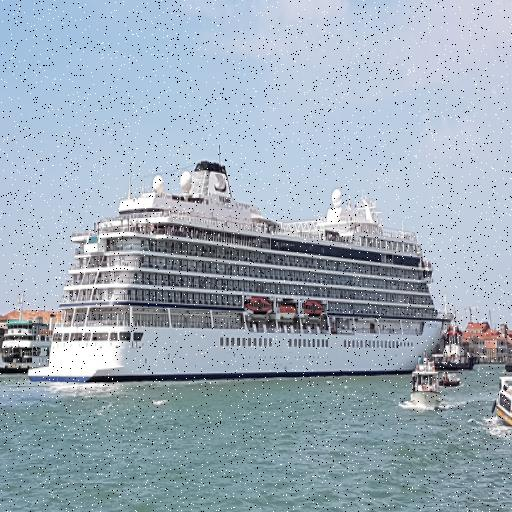cruises: (24, 153, 455, 390)
